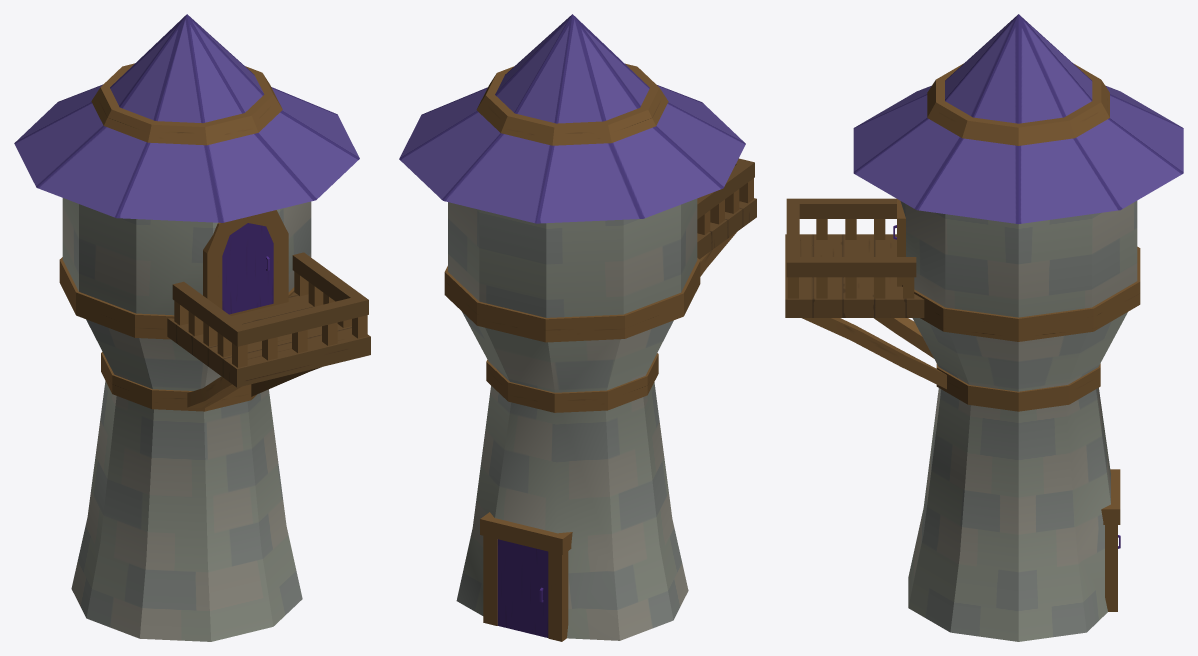
Rendered from Tower 01.fbx.
3 views of the same model, side by side, from view 1: azimuth 30°, elevation 25°; view 2: azimuth 150°, elevation 25°; view 3: azimuth 270°, elevation 25° (orthographic).
Parts seen in each view (by area): view 1: Tower_01, Door_Top; view 2: Tower_01, Door; view 3: Tower_01.
Part boxes in pixels (box(x1,y1,x2,y2)): Tower_01: box(14, 14, 370, 641); Door_Top: box(222, 223, 273, 314); Tower_01: box(399, 14, 756, 641); Door: box(497, 539, 548, 637); Tower_01: box(785, 14, 1183, 641).
Bounding box in the file's own units: 797 × 1467 × 915.
